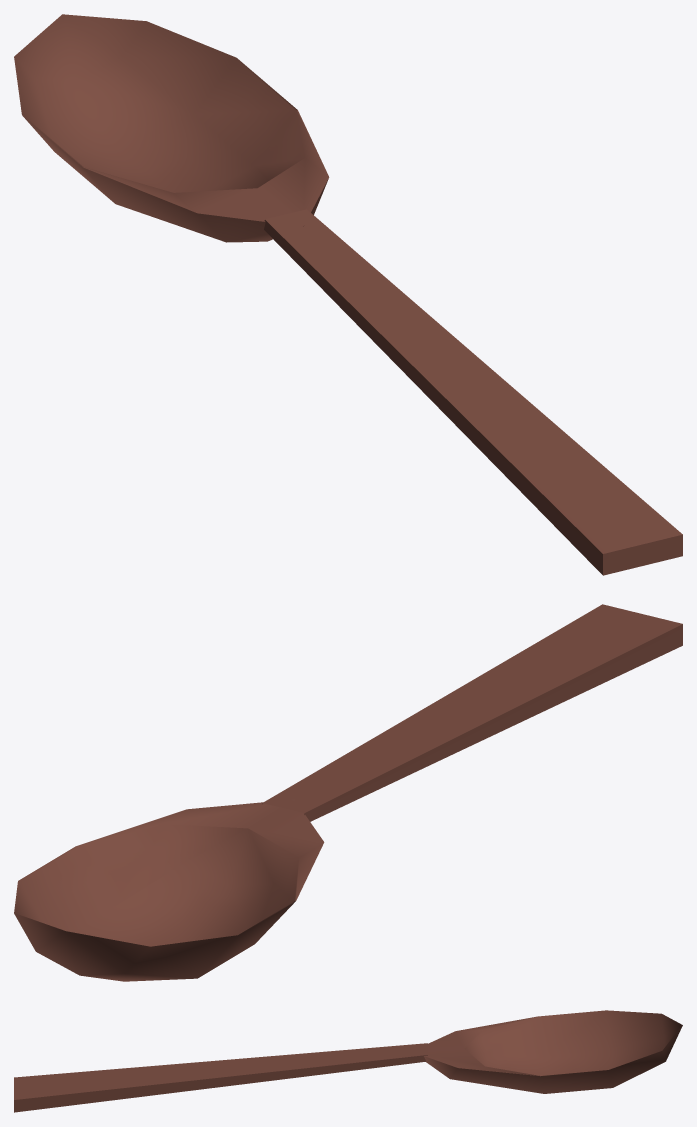
The model's file is prop_019.glb.
3 views of the same model, one above another, from view 1: azimuth 30°, elevation 25°; view 2: azimuth 150°, elevation 25°; view 3: azimuth 270°, elevation 25° (orthographic). The views are drawn at different scales.
Visible parts, largest first — view 1: prop_019; view 2: prop_019; view 3: prop_019.
Boxes of the visible parts, bbox=[...] form: prop_019: bbox=[14, 14, 682, 575]; prop_019: bbox=[14, 604, 682, 981]; prop_019: bbox=[14, 1010, 682, 1112].
Bounding box in the file's own units: 0.0581 × 0.0329 × 0.2652.
1 material, 1 textured.
